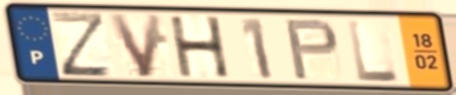1: (239, 15, 276, 81)
H: (166, 14, 233, 79)
L: (345, 18, 403, 84)
P: (282, 17, 342, 82)
V: (105, 12, 166, 81)
Z: (48, 10, 114, 79)
